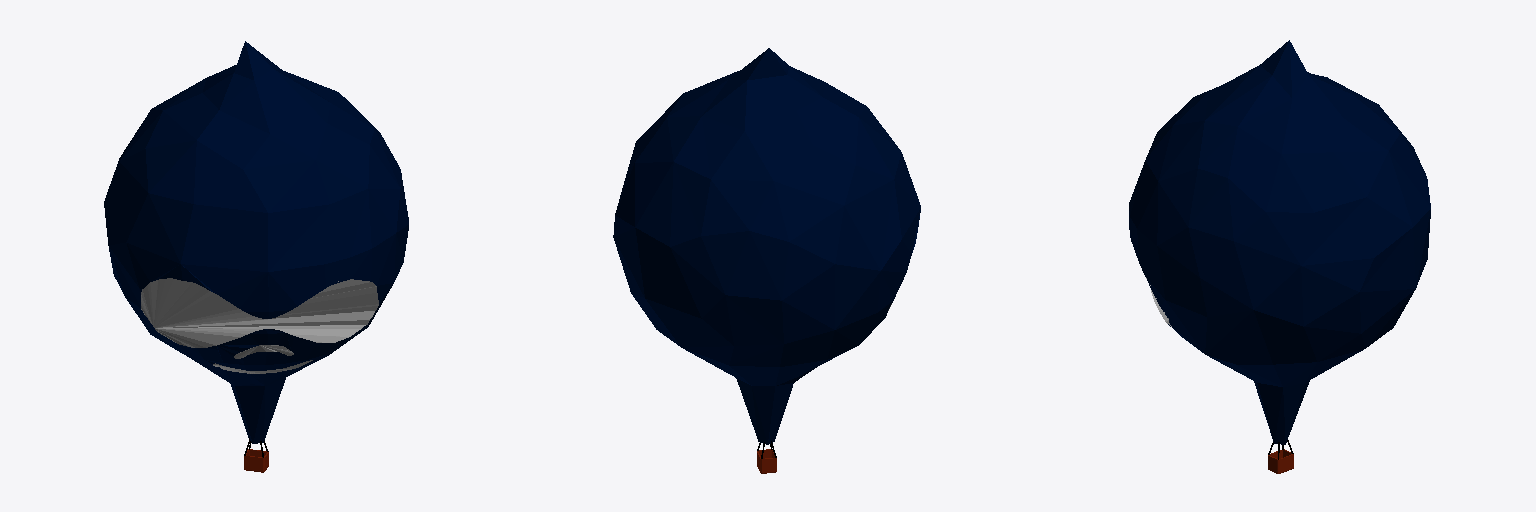
Rendered from drupalicon.obj.
3 views of the same model, side by side, from view 1: azimuth 30°, elevation 25°; view 2: azimuth 150°, elevation 25°; view 3: azimuth 270°, elevation 25° (orthographic).
Parts seen in each view (by area): view 1: Sphere; view 2: Sphere; view 3: Sphere.
Boxes of the visible parts, box(x1,y1,x2,y2) form: Sphere: box(104, 41, 408, 443); Sphere: box(613, 48, 920, 444); Sphere: box(1129, 40, 1430, 444).
Size of the model in its own units: 9.77 by 15.1 by 9.71.